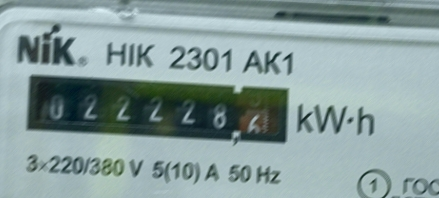0: (48, 91, 66, 120)
2: (81, 90, 101, 121), (181, 96, 199, 126), (147, 94, 166, 122), (115, 93, 133, 122)
5: (248, 88, 264, 109)
6: (246, 111, 264, 133)
8: (212, 101, 229, 129)
screen: (19, 63, 300, 152)
